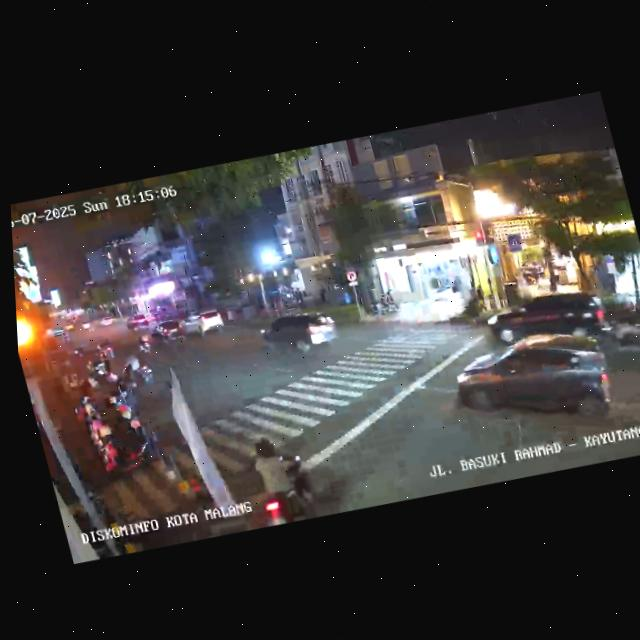car: (443, 319, 621, 445), (481, 279, 610, 354), (254, 302, 343, 362), (176, 304, 227, 342), (147, 316, 187, 347), (630, 314, 640, 389), (125, 312, 154, 333)
motorcycle: (241, 428, 312, 526), (112, 352, 155, 392), (133, 328, 153, 356)
person: (639, 268, 640, 296)
